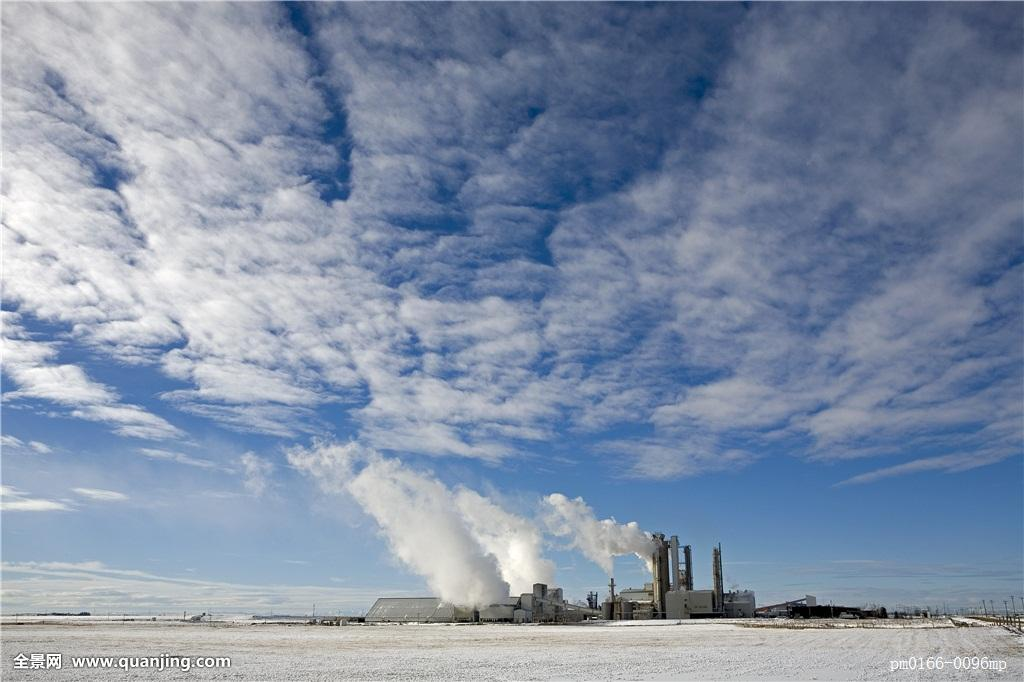dust: (356, 463, 556, 614), (555, 486, 663, 578)
